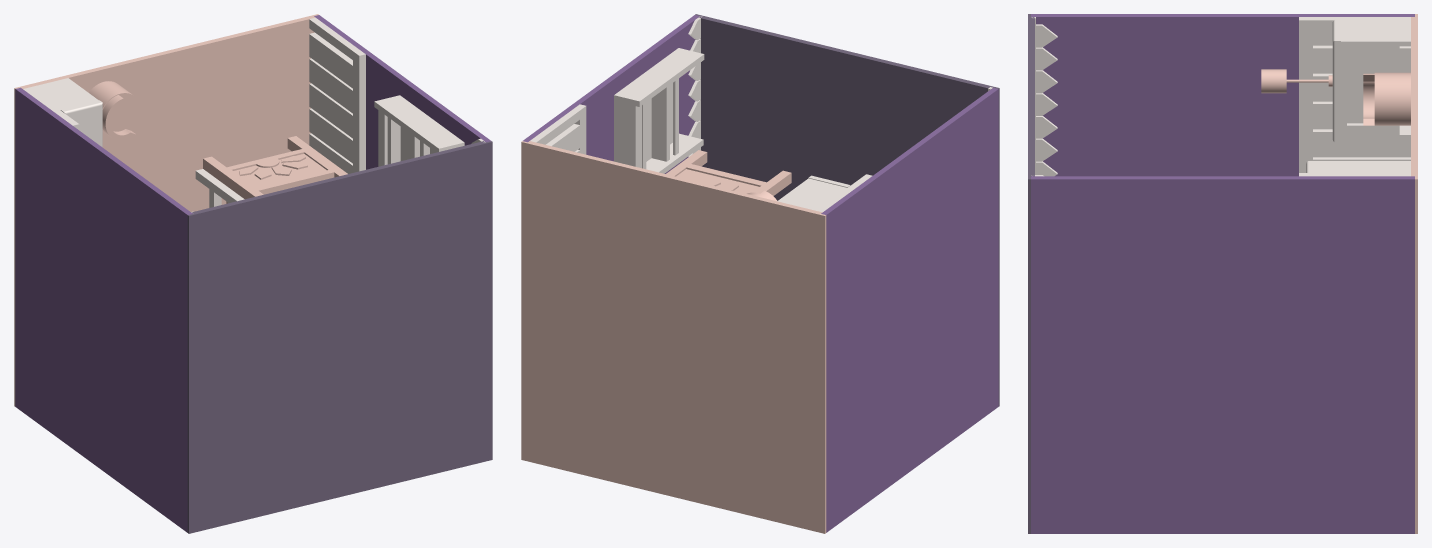
Rendered from Assembly 1.gltf.
3 views of the same model, side by side, from view 1: azimuth 30°, elevation 25°; view 2: azimuth 150°, elevation 25°; view 3: azimuth 270°, elevation 25° (orthographic). The views are drawn at different scales.
Visible parts, largest first — view 1: Part 1 (×8), Side Wall_Decor, Part 2, Side Wall; view 2: Part 1 (×6), Side Wall_Decor, Side Wall, Part 2, Part 3; view 3: Side Wall, Side Wall_Decor, Part 1 (×7), Part 2, Part 3.
Part boxes in pixels (x1=…): Part 1 (×8): x1=14, y1=14, x2=492, y2=533; Side Wall_Decor: x1=15, y1=87, x2=192, y2=526; Part 2: x1=309, y1=17, x2=365, y2=173; Side Wall: x1=314, y1=15, x2=490, y2=169; Part 1 (×6): x1=521, y1=14, x2=999, y2=533; Side Wall_Decor: x1=821, y1=87, x2=998, y2=526; Side Wall: x1=523, y1=15, x2=699, y2=173; Part 2: x1=530, y1=104, x2=586, y2=154; Part 3: x1=688, y1=16, x2=702, y2=156; Side Wall: x1=1031, y1=176, x2=1414, y2=527; Side Wall_Decor: x1=1031, y1=14, x2=1414, y2=176; Part 1 (×7): x1=1028, y1=14, x2=1417, y2=533; Part 2: x1=1299, y1=17, x2=1410, y2=172; Part 3: x1=1031, y1=17, x2=1057, y2=176.
Size of the model in its own units: 0.14 by 0.1403 by 0.1395.
